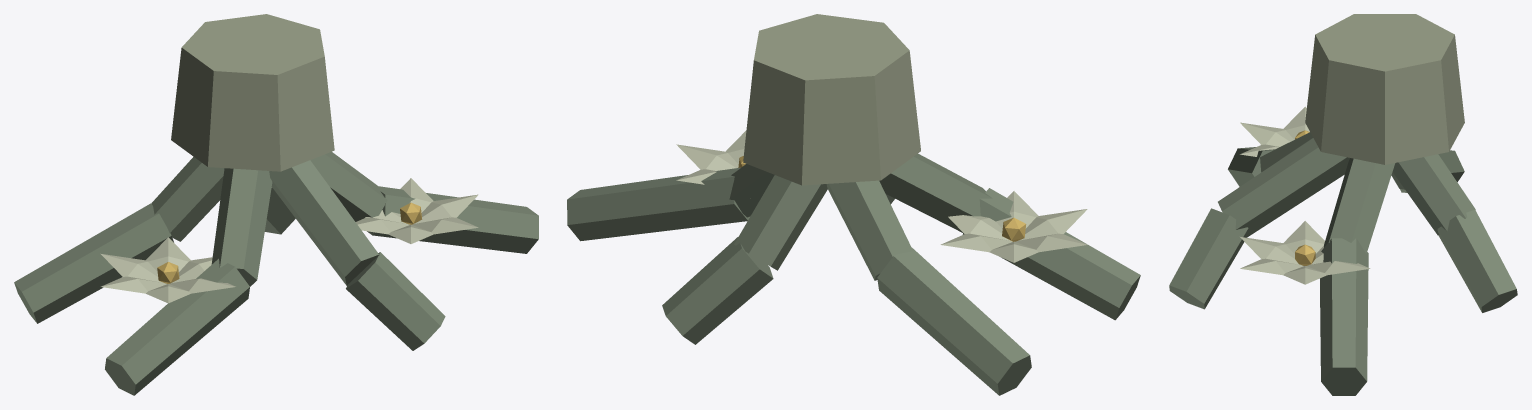
Rendered from map-exclusive-v3__lake_15.glb.
3 views of the same model, side by side, from view 1: azimuth 30°, elevation 25°; view 2: azimuth 150°, elevation 25°; view 3: azimuth 270°, elevation 25° (orthographic). The views are drawn at different scales.
Visible parts, largest first — view 1: lake_15; view 2: lake_15; view 3: lake_15.
Part boxes in pixels (bbox=[...]): lake_15: bbox=[14, 14, 538, 395]; lake_15: bbox=[567, 14, 1140, 395]; lake_15: bbox=[1169, 14, 1517, 395].
Size of the model in its own units: 2.56 by 1.29 by 1.7.
